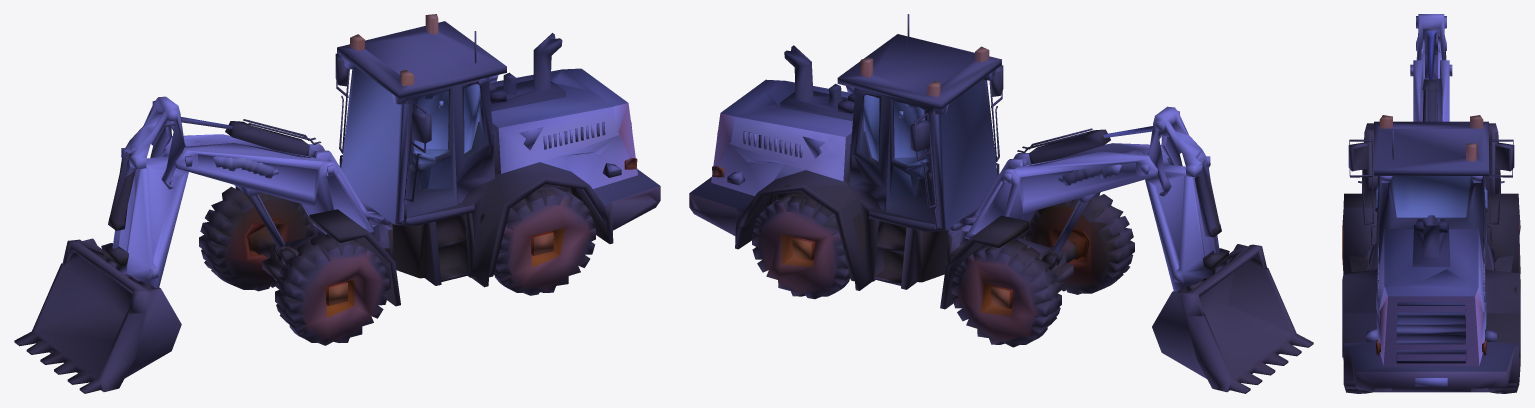
File: model.progressive.glb
The picture shows the model from 3 angles, left to right: view 1: azimuth 30°, elevation 25°; view 2: azimuth 150°, elevation 25°; view 3: azimuth 270°, elevation 25°; orthographic projection. The views are drawn at different scales.
Visible parts, largest first — view 1: BobcatDigger1; view 2: BobcatDigger1; view 3: BobcatDigger1.
Part boxes in pixels (left/top/right/bottom): BobcatDigger1: left=14, top=14, right=660, bottom=393; BobcatDigger1: left=689, top=14, right=1313, bottom=393; BobcatDigger1: left=1342, top=14, right=1520, bottom=393.
Bounding box in the file's own units: 1.89 × 0.8084 × 0.5486.
1 material, 1 textured.
